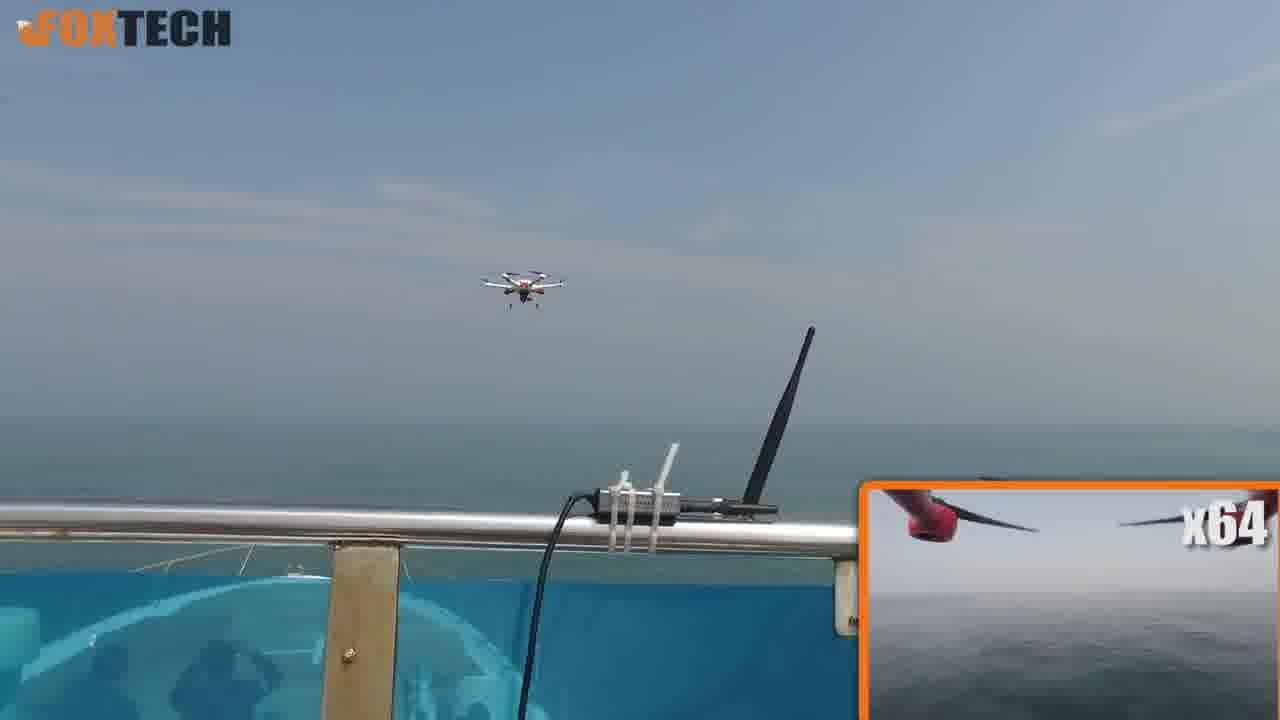drone: (472, 262, 570, 323)
